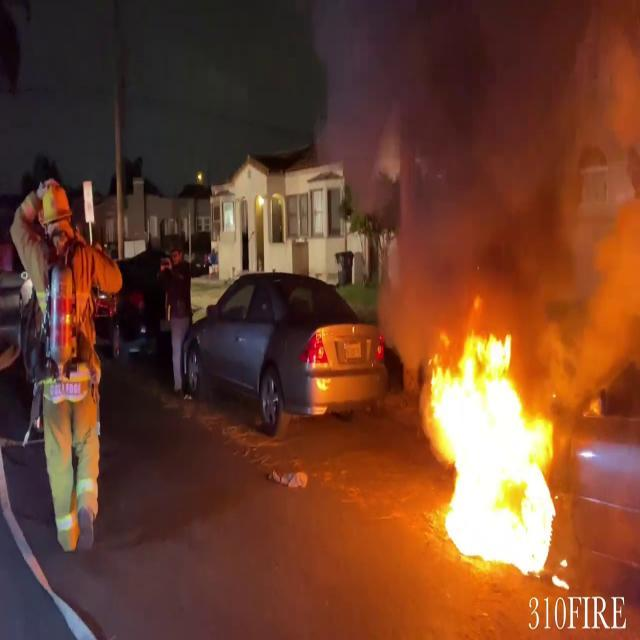Fire: (410, 324, 578, 576)
Smoke: (315, 0, 640, 355)
